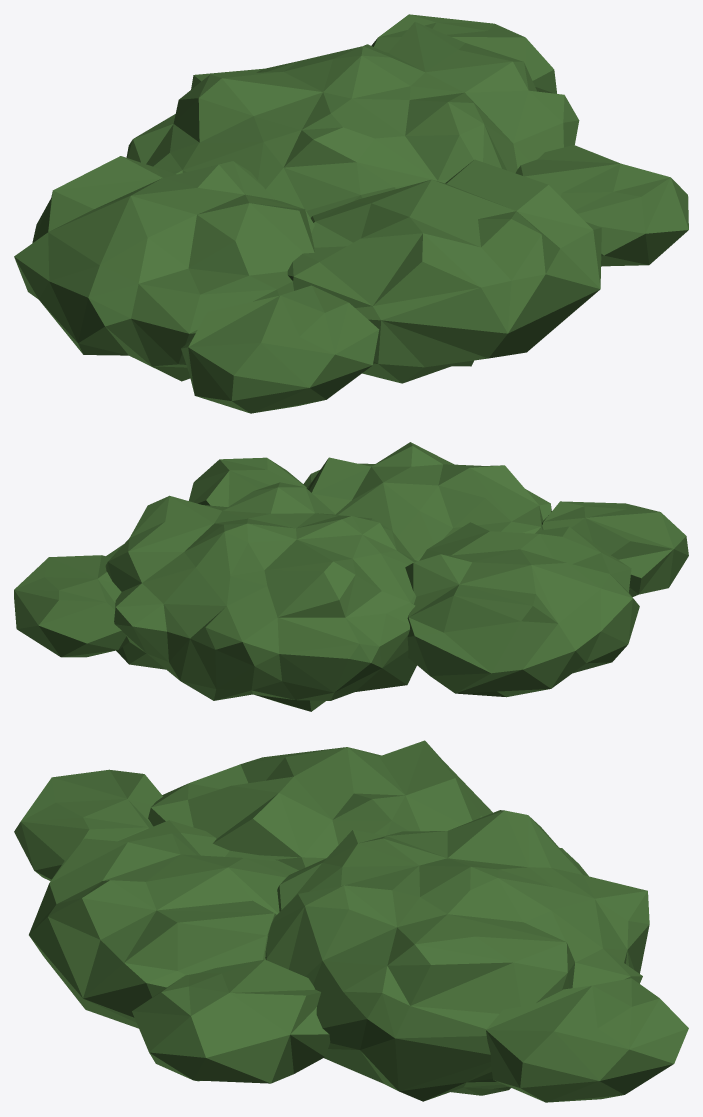
File: SM_Env_Tree_Canopy_01.glb
The picture shows the model from 3 angles, top to bottom: view 1: azimuth 30°, elevation 25°; view 2: azimuth 150°, elevation 25°; view 3: azimuth 270°, elevation 25°; orthographic projection. The views are drawn at different scales.
Visible parts, largest first — view 1: SM_Env_Tree_Canopy_01_part00; view 2: SM_Env_Tree_Canopy_01_part00; view 3: SM_Env_Tree_Canopy_01_part00.
Part boxes in pixels (left/top/right/bottom): SM_Env_Tree_Canopy_01_part00: left=14, top=14, right=688, bottom=413; SM_Env_Tree_Canopy_01_part00: left=14, top=442, right=688, bottom=711; SM_Env_Tree_Canopy_01_part00: left=14, top=740, right=688, bottom=1102.
Size of the model in its own units: 13.81 by 4.54 by 13.14.
1 material, 1 textured.
